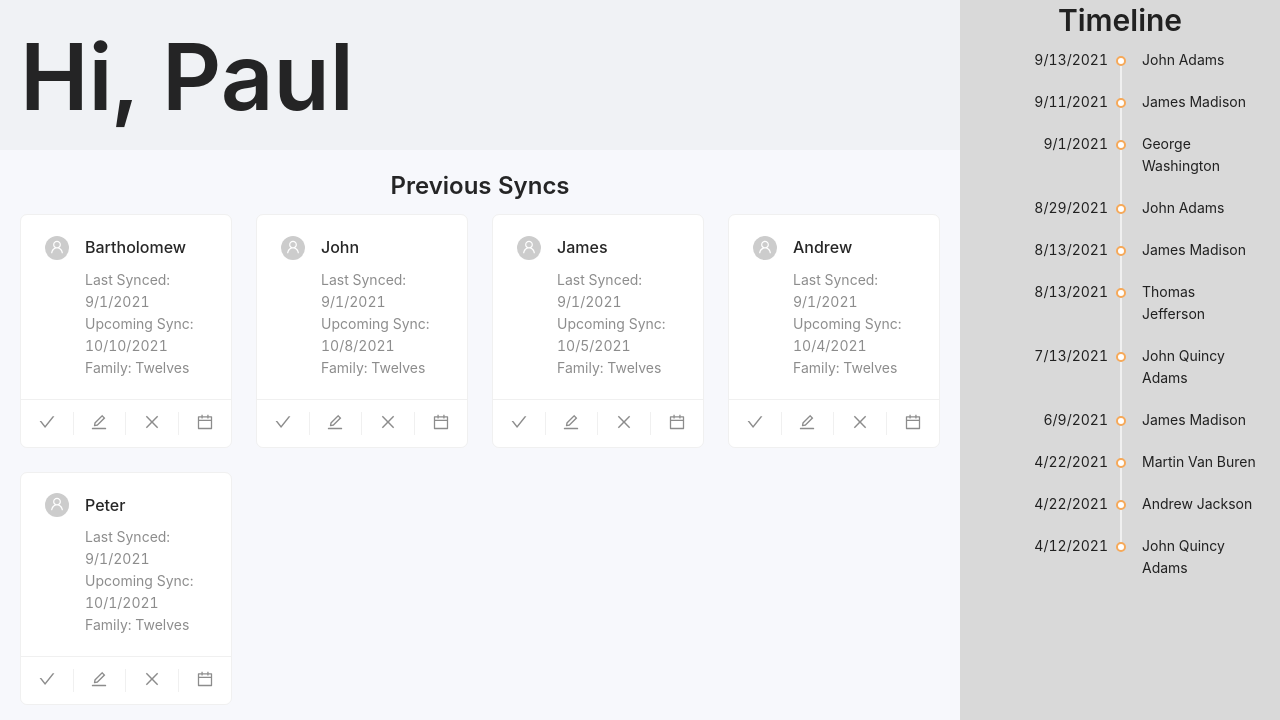
Test: open edit summary modal when clicking edit btn
expect the text "M8" is not shown: met
expect the text "Sync Date" is not shown: met
Click the picture named "edit" below "Bartholomew": (99, 422) [91, 414, 107, 430]
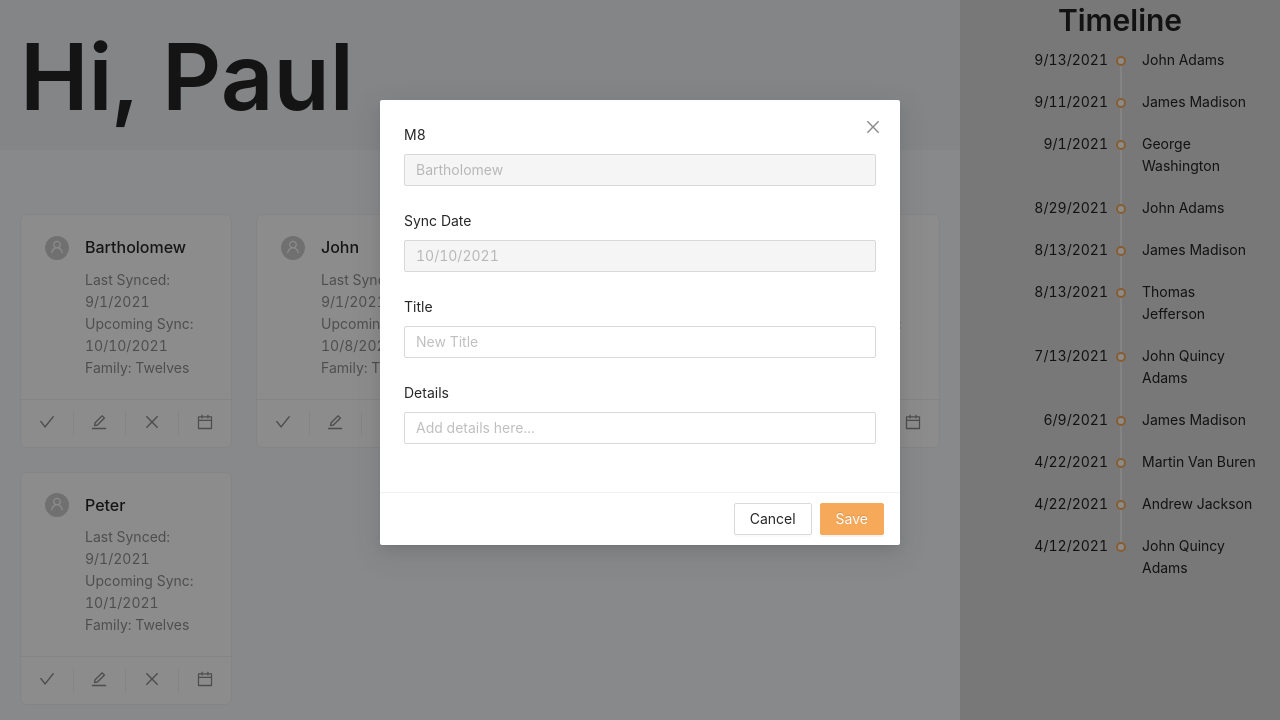
expect the text "M8" is shown: met, box [404, 124, 426, 146]
expect the text "Sync Date" is shown: met, box [404, 210, 472, 232]
expect the text "Title" is shown: met, box [404, 296, 433, 318]
